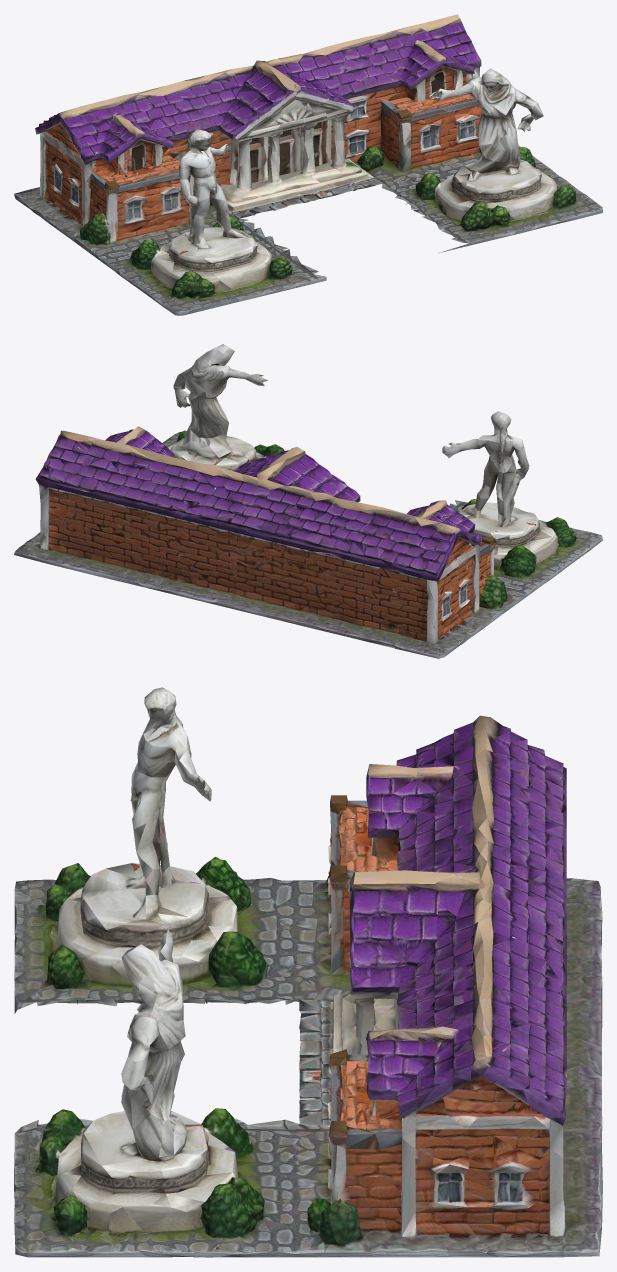
Rendered from studio.glb.
3 renders of one model, top to bottom at view 1: azimuth 30°, elevation 25°; view 2: azimuth 150°, elevation 25°; view 3: azimuth 270°, elevation 25°, orthographic. The views are drawn at different scales.
Size of the model in its own units: 3 by 0.9357 by 2.
Materials: 1 (1 with a texture image).
